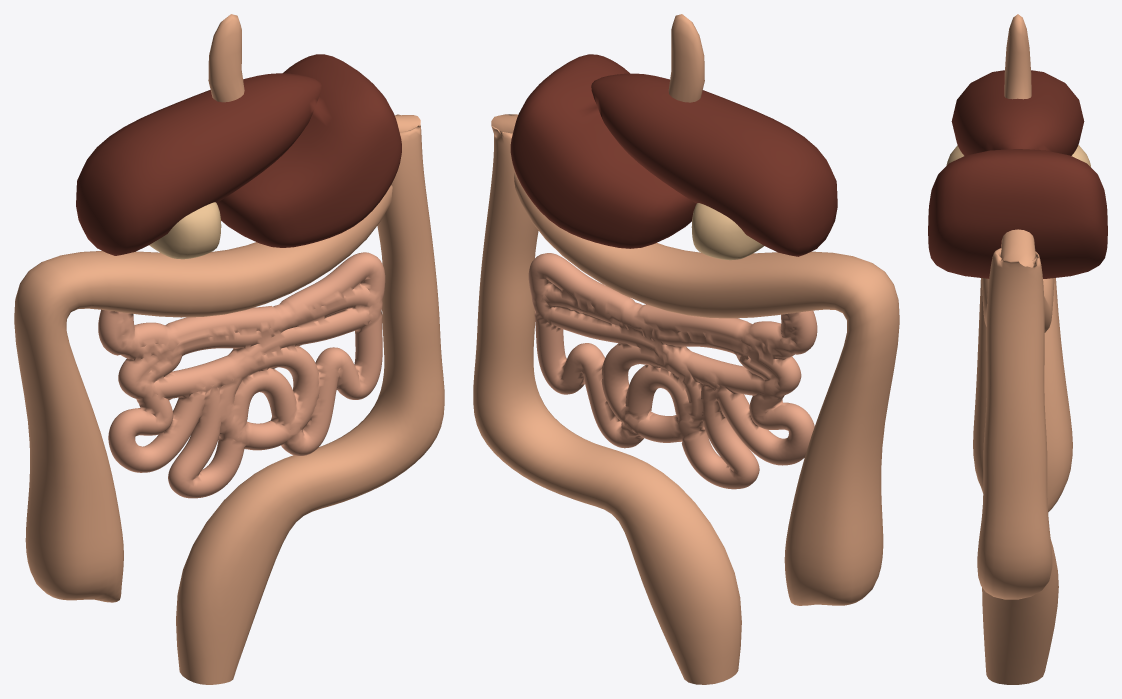
Rendered from anatomy  digestion.fbx.
The picture shows the model from 3 angles, left to right: view 1: azimuth 30°, elevation 25°; view 2: azimuth 150°, elevation 25°; view 3: azimuth 270°, elevation 25°; orthographic projection. The views are drawn at different scales.
Visible parts, largest first — view 1: Vert.001; view 2: Vert.001; view 3: Vert.001.
Boxes of the visible parts, <box> form: Vert.001: <box>14,14,444,684</box>; Vert.001: <box>473,14,899,684</box>; Vert.001: <box>928,14,1107,684</box>.
Size of the model in its own units: 167 by 253 by 61.16.
